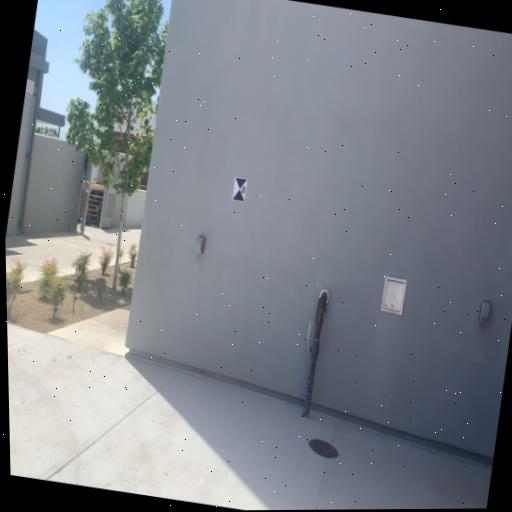target8: (231, 176, 248, 201)
